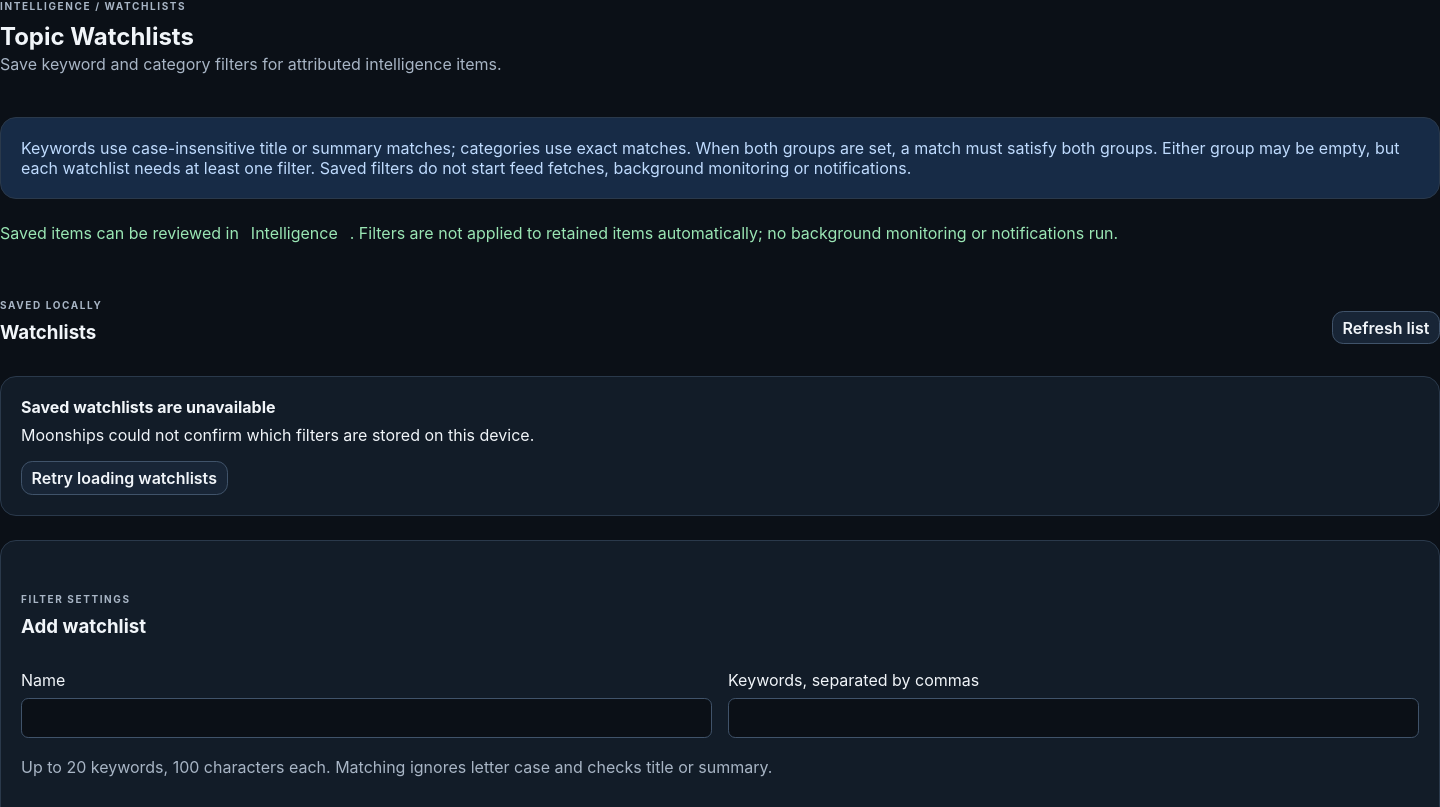
it: M5-009 Topic Watchlists › distinguishes unavailable storage from the empty state and permits retry
The width and height of the screenshot is (1440, 807).
Expected: the heading "Saved watchlists are unavailable" is shown, [21, 397, 276, 417]
Expected: the text "No watchlists saved" is not shown
What coordinates should you click on to do the following:
click the button "Retry loading watchlists"
I would click on:
 (124, 478)
Its box is [21, 461, 228, 495].
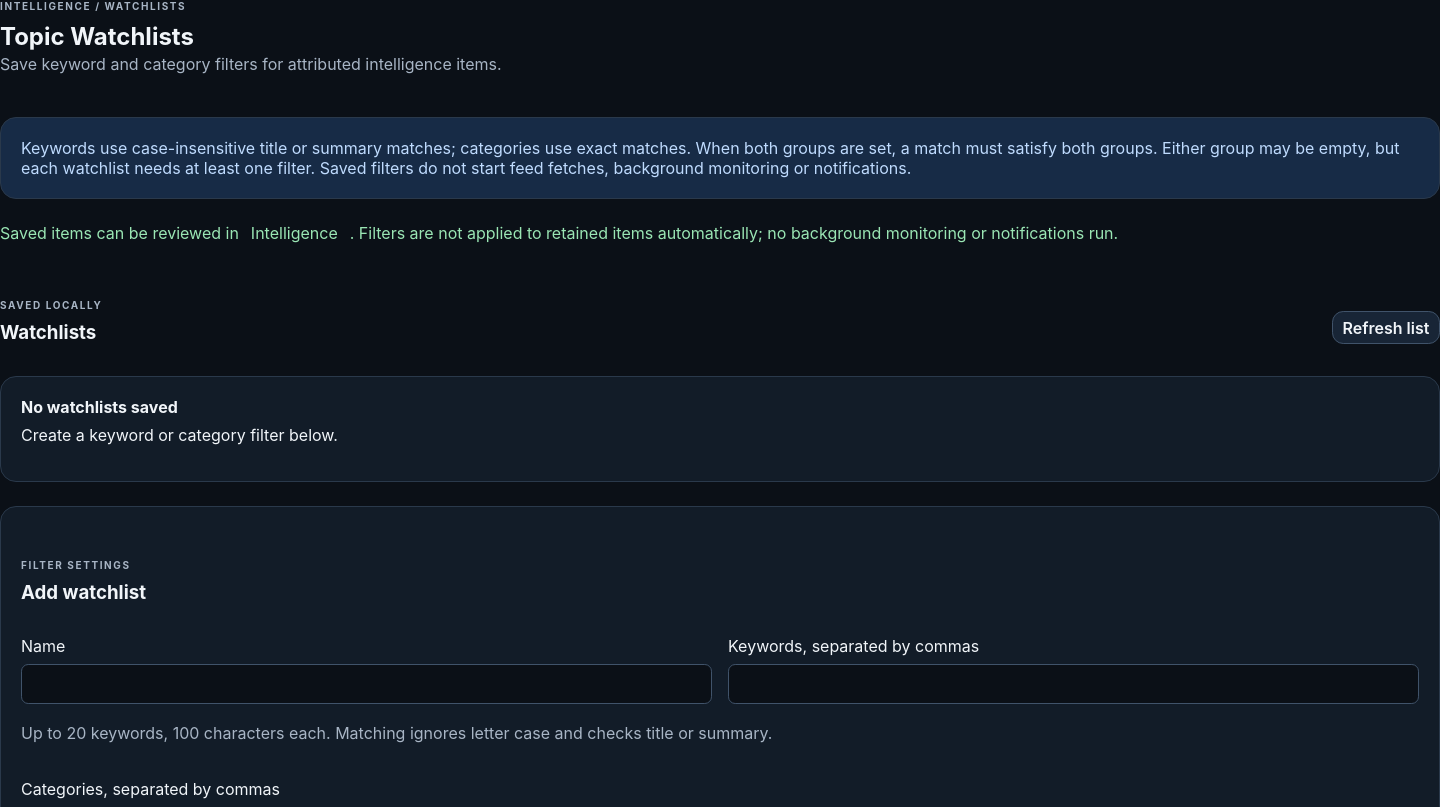
Result: the heading "No watchlists saved" is shown at [21, 397, 178, 417]
